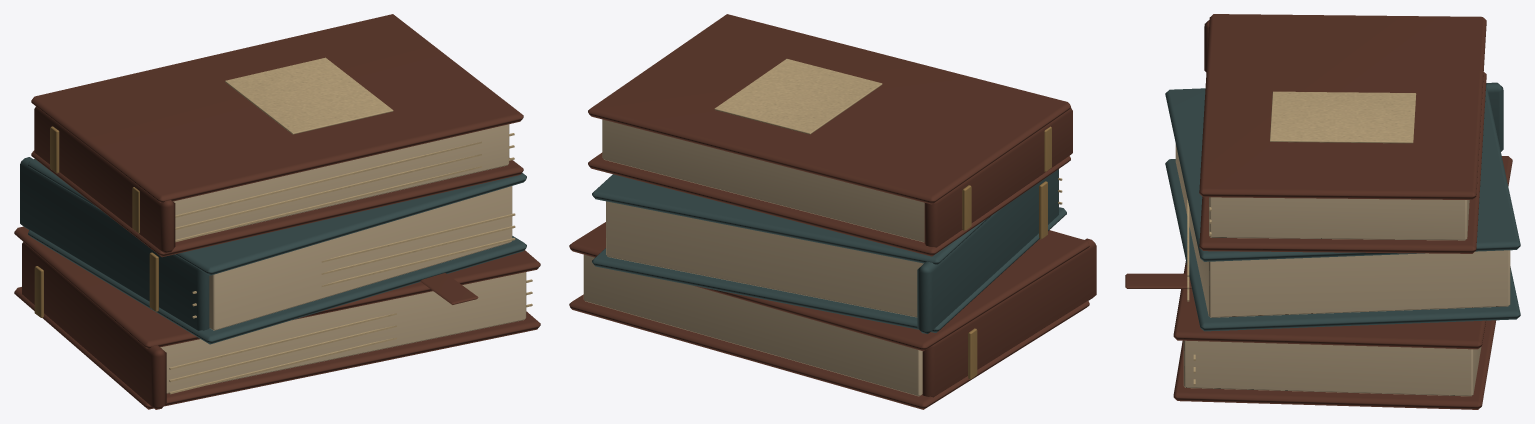
Rendered from prop_book_stack.glb.
3 views of the same model, side by side, from view 1: azimuth 30°, elevation 25°; view 2: azimuth 150°, elevation 25°; view 3: azimuth 270°, elevation 25° (orthographic). The views are drawn at different scales.
Parts seen in each view (by area): view 1: prop_book_stack.002; view 2: prop_book_stack.002; view 3: prop_book_stack.002.
Boxes of the visible parts, <box> form: prop_book_stack.002: <box>14,14,540,409</box>; prop_book_stack.002: <box>569,14,1096,409</box>; prop_book_stack.002: <box>1125,14,1520,409</box>.
Bounding box in the file's own units: 1.88 × 0.947 × 1.6.
5 materials, 1 textured.
